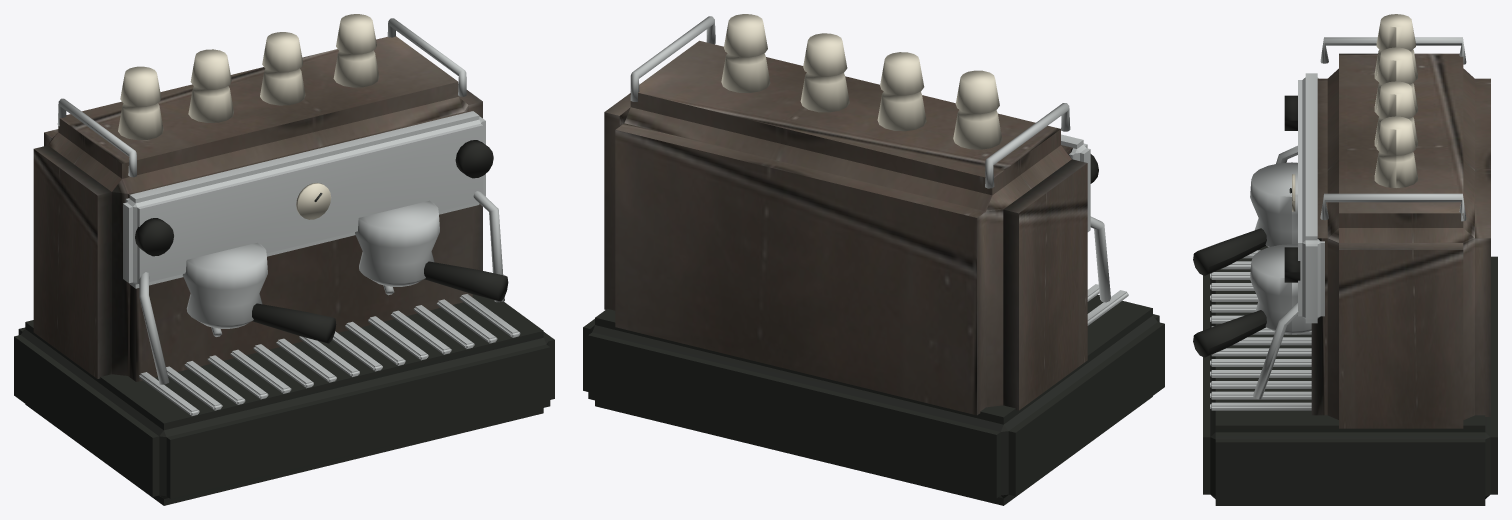
File: espresso-machine.glb
The picture shows the model from 3 angles, left to right: view 1: azimuth 30°, elevation 25°; view 2: azimuth 150°, elevation 25°; view 3: azimuth 270°, elevation 25°; orthographic projection. The views are drawn at different scales.
Parts seen in each view (by area): view 1: Frame; view 2: Frame; view 3: Frame.
Part boxes in pixels (left/top/right/bottom): Frame: left=14, top=14, right=554, bottom=505; Frame: left=583, top=14, right=1164, bottom=505; Frame: left=1193, top=14, right=1497, bottom=505.
Bounding box in the file's own units: 0.72 × 0.5945 × 0.4858.
6 materials, 1 textured.
